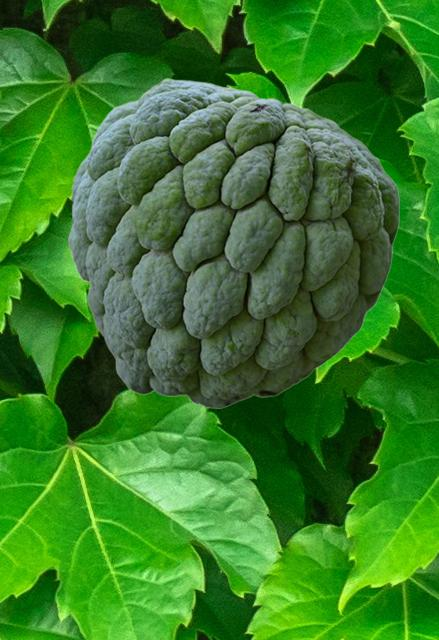atis: (68, 78, 399, 407)
